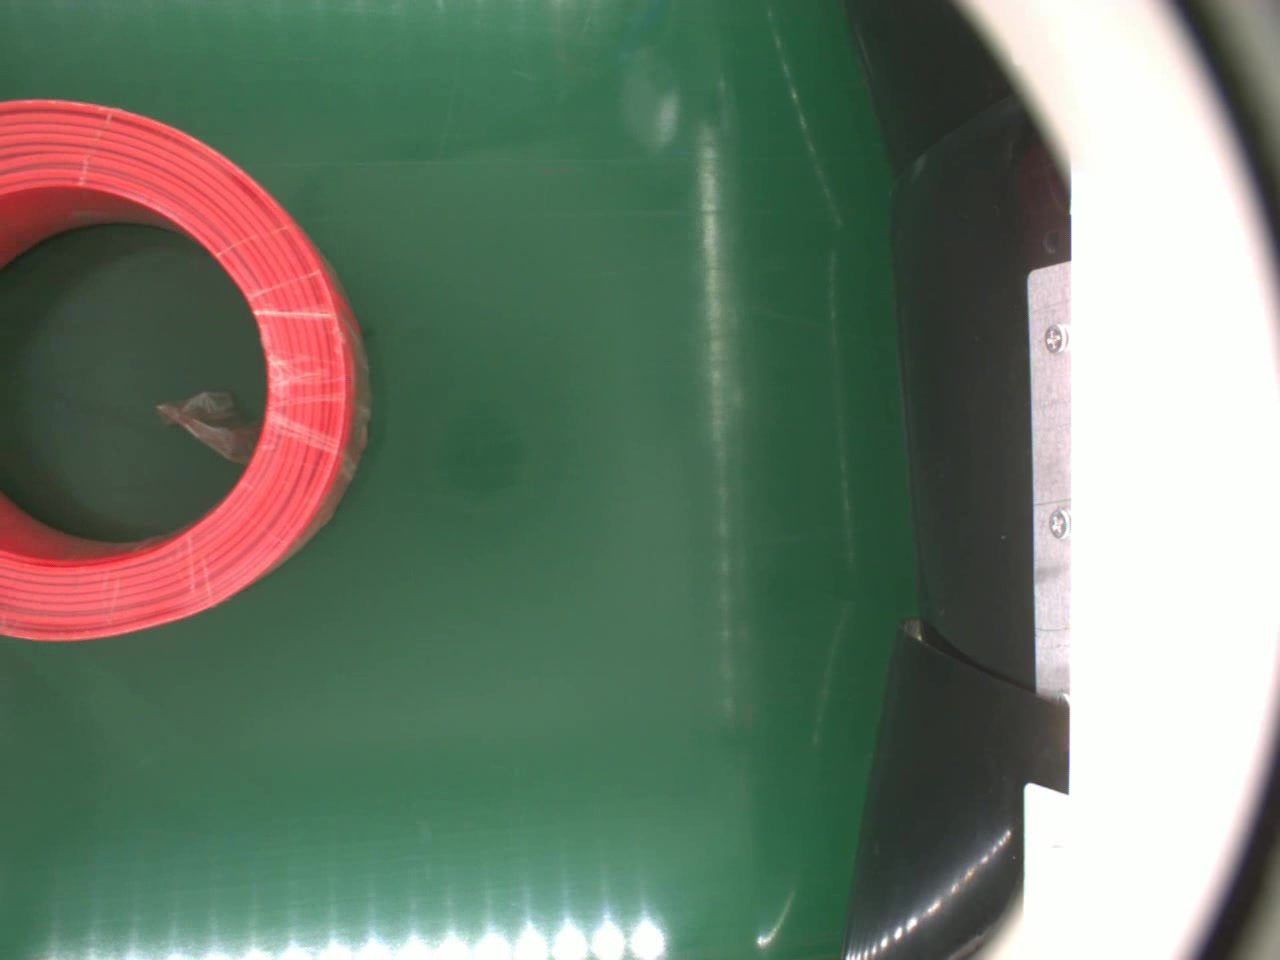red: (0, 90, 373, 647)
